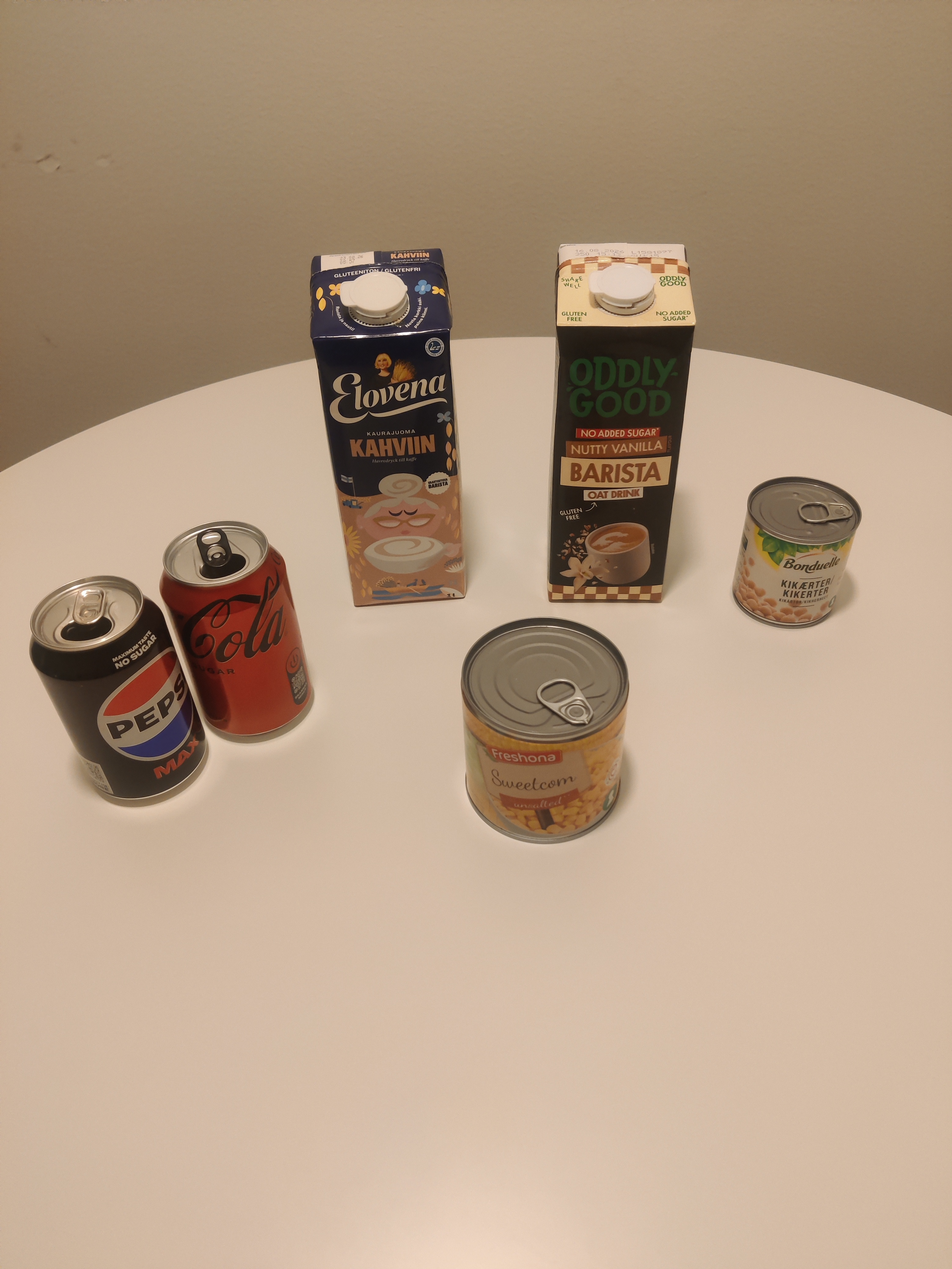Dryckeskartong: (523, 177, 709, 623), (294, 201, 483, 621)
Konservburk: (424, 583, 664, 900), (721, 462, 888, 646)
Pantburk: (133, 476, 338, 798), (12, 529, 214, 840)
